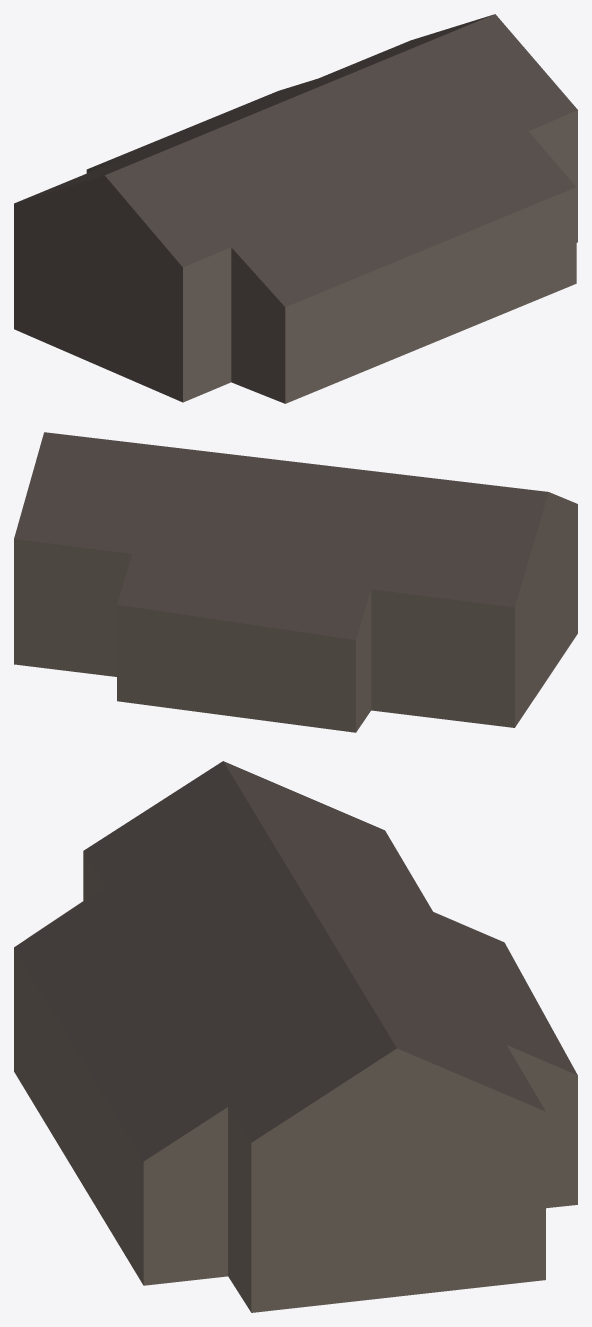
3 views of the same model, one above another, from view 1: azimuth 30°, elevation 25°; view 2: azimuth 150°, elevation 25°; view 3: azimuth 270°, elevation 25° (orthographic). The views are drawn at different scales.
Visible parts, largest first — view 1: HP-w428179902; view 2: HP-w428179902; view 3: HP-w428179902.
Boxes of the visible parts, x1,y1,x2,y2 form: HP-w428179902: [14, 14, 577, 403]; HP-w428179902: [14, 432, 577, 732]; HP-w428179902: [14, 761, 577, 1312].
Bounding box in the file's own units: 16.64 × 6 × 12.35.
